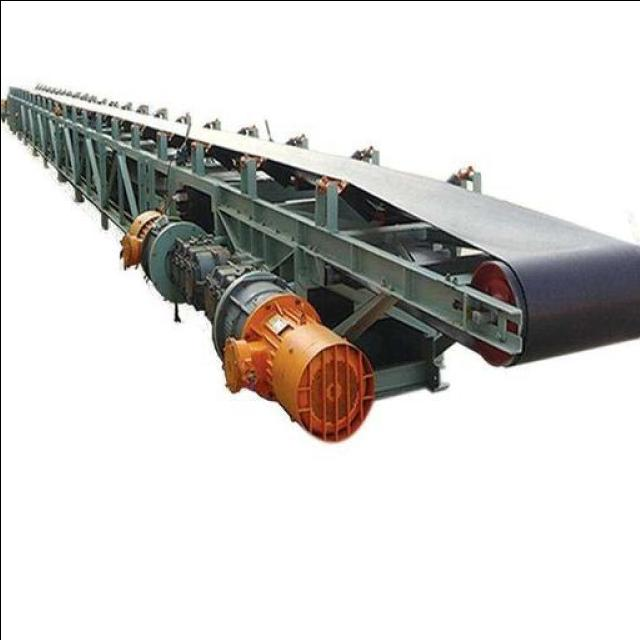conveyor: (16, 84, 640, 353)
